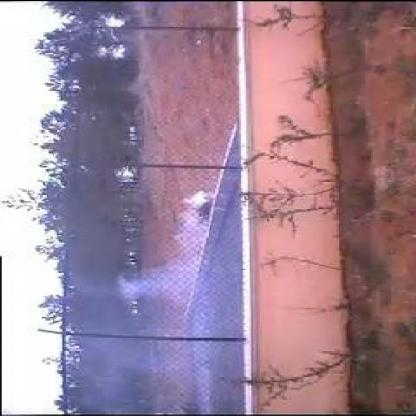-: (96, 190, 242, 346)
